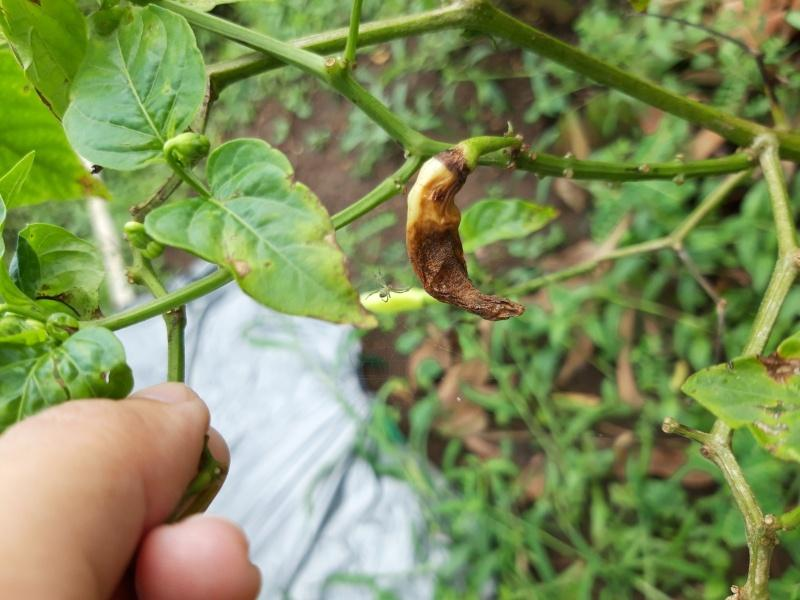antraknosa: (404, 148, 524, 322)
